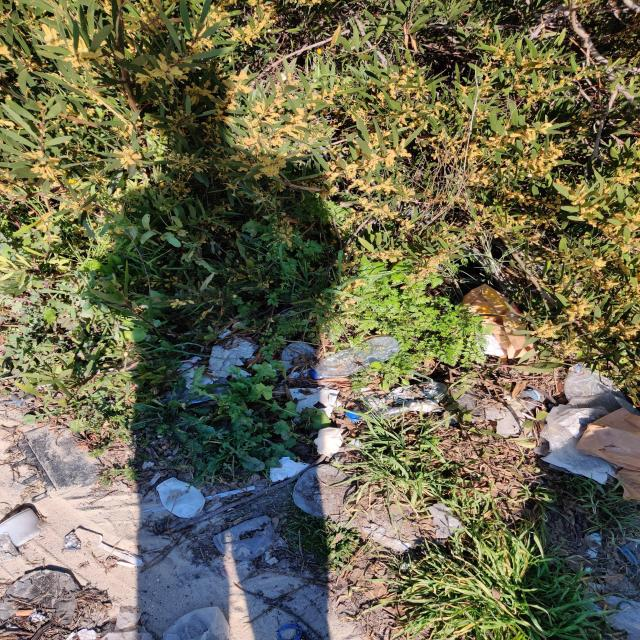litter: (307, 334, 403, 381), (348, 383, 448, 421), (542, 409, 606, 461), (564, 363, 629, 411)
